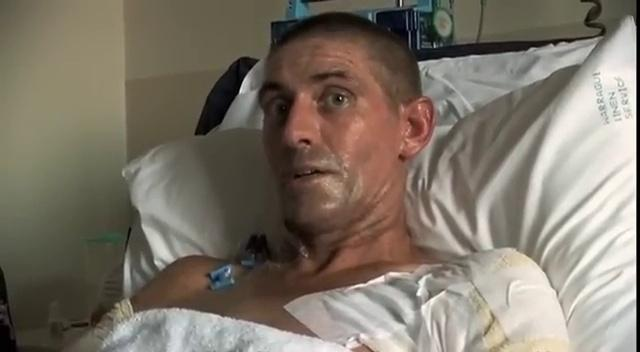patient: (68, 10, 573, 351)
